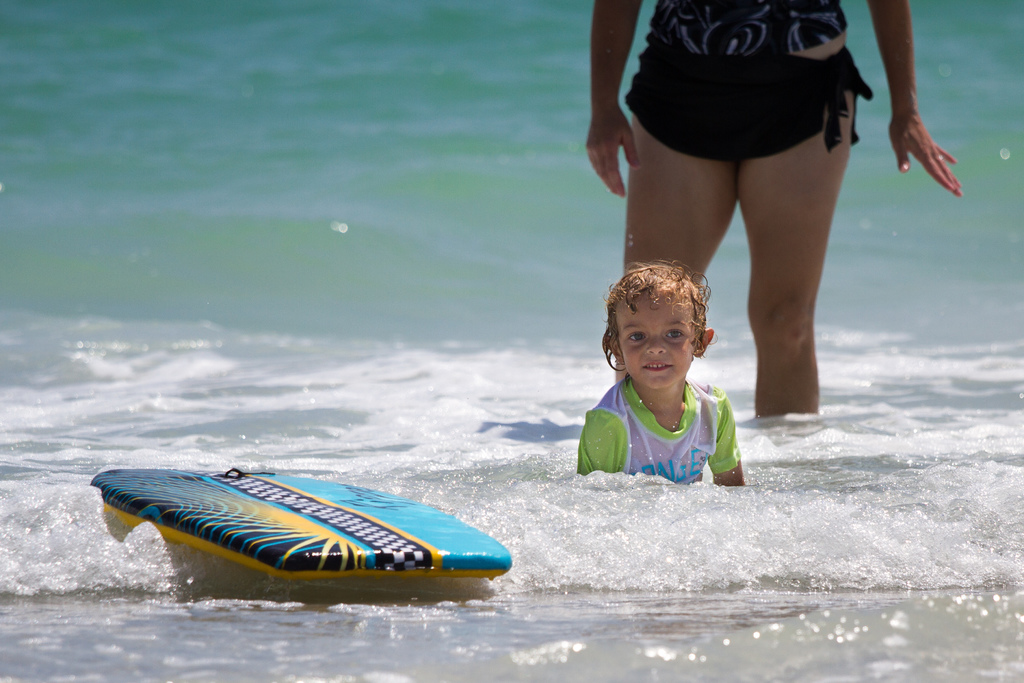Person: (586, 0, 961, 415), (577, 257, 745, 485)
